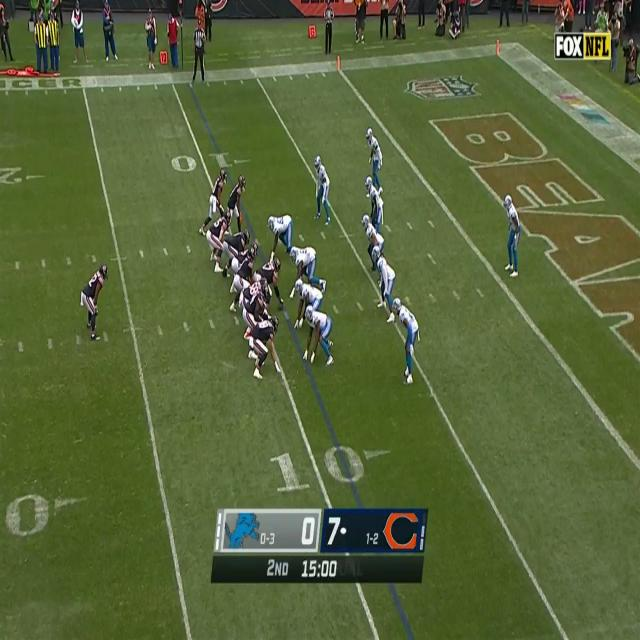football: (278, 299, 285, 313)
players: (392, 297, 419, 388), (249, 316, 283, 380), (370, 247, 397, 326), (80, 265, 108, 341), (200, 168, 229, 238), (304, 306, 335, 368), (290, 246, 326, 298), (230, 247, 258, 313), (206, 212, 233, 276), (241, 286, 272, 341), (361, 213, 387, 275), (296, 279, 324, 331), (268, 214, 297, 264), (503, 195, 520, 278), (226, 174, 248, 238), (364, 130, 386, 192), (223, 231, 253, 276), (254, 258, 282, 305), (230, 242, 259, 284), (314, 156, 331, 227), (363, 178, 384, 235)
